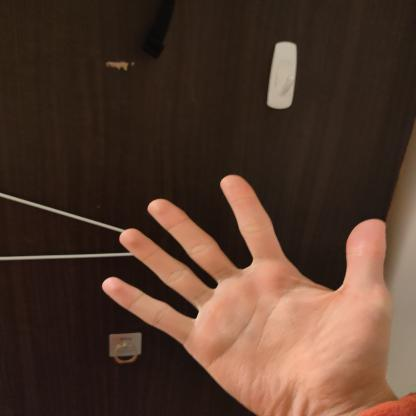bare_hand: (100, 171, 401, 415)
